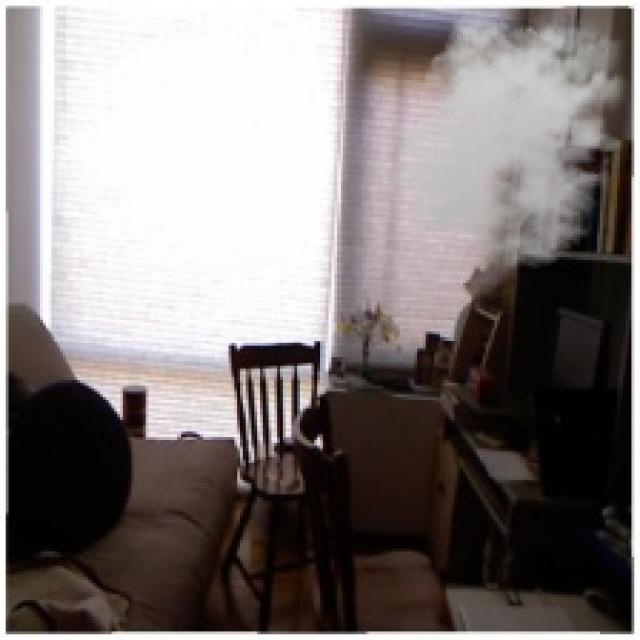Smoke: (388, 5, 638, 272)
